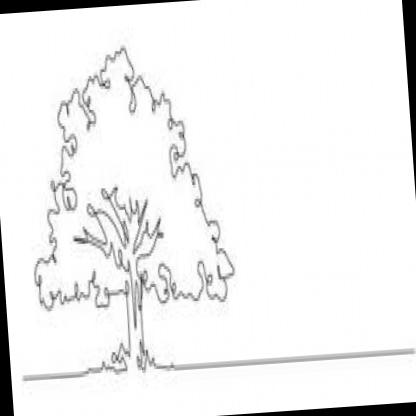branch_line: (76, 181, 168, 279)
crown_dizzy: (19, 44, 236, 315)
root_none: (98, 340, 184, 404)
trunk_straight: (124, 294, 146, 346)
